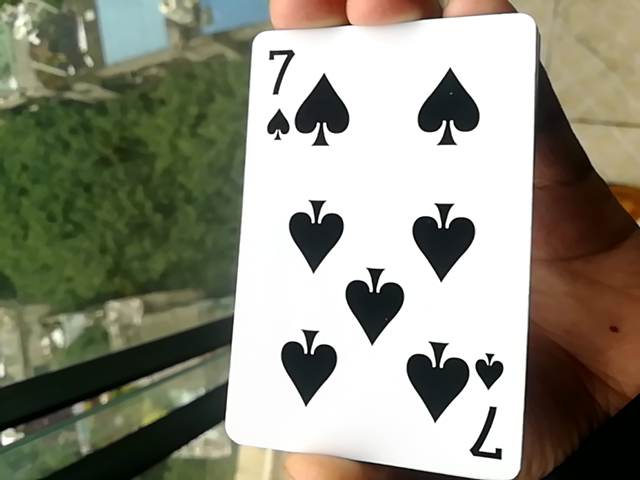ht 7: (221, 31, 551, 478)
